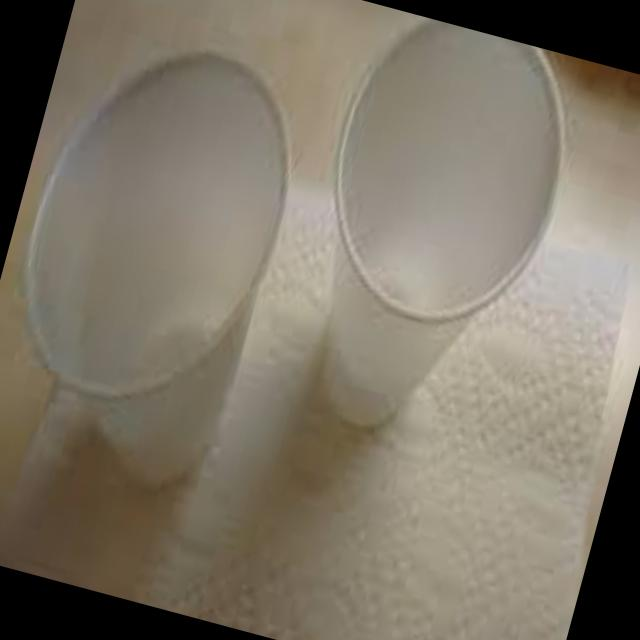GelasPlastik: (0, 14, 321, 506), (262, 2, 597, 463)
